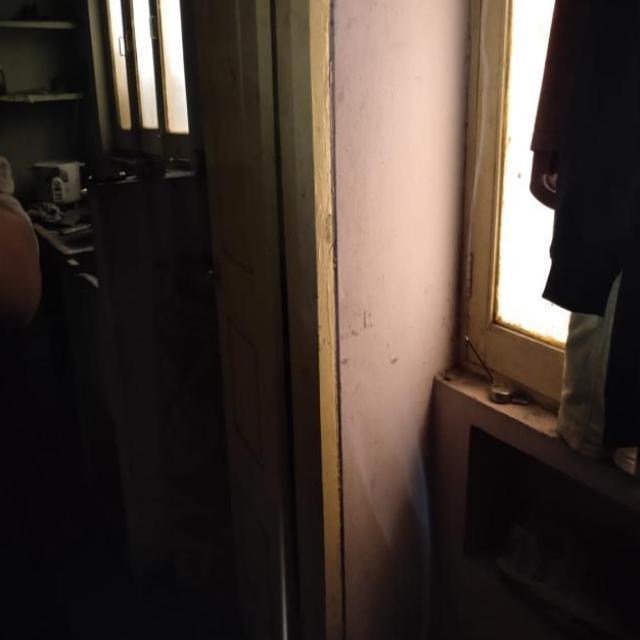fire: (326, 338, 449, 614)
